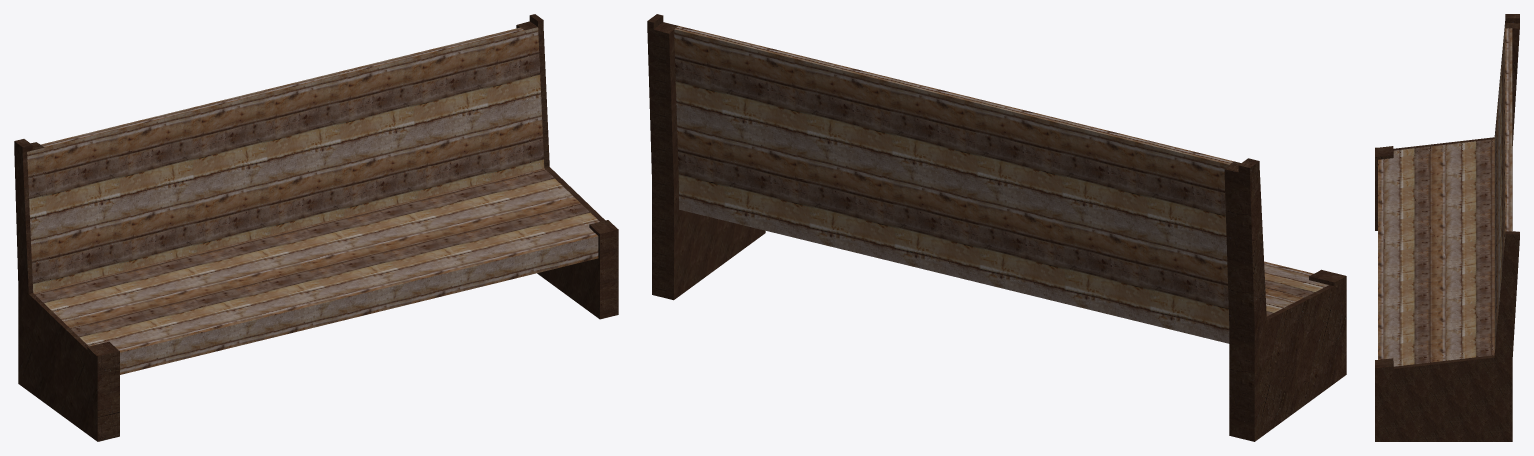
File: FbxBench.fbx
3 views of the same model, side by side, from view 1: azimuth 30°, elevation 25°; view 2: azimuth 150°, elevation 25°; view 3: azimuth 270°, elevation 25° (orthographic). The views are drawn at different scales.
Parts seen in each view (by area): view 1: Bench; view 2: Bench; view 3: Bench.
Part boxes in pixels (x1,y1,x2,y2): Bench: [14, 14, 618, 441]; Bench: [647, 14, 1346, 441]; Bench: [1375, 14, 1519, 441].
Bounding box in the file's own units: 17.77 × 7.81 × 4.93.
Materials: 2 (2 with a texture image).
